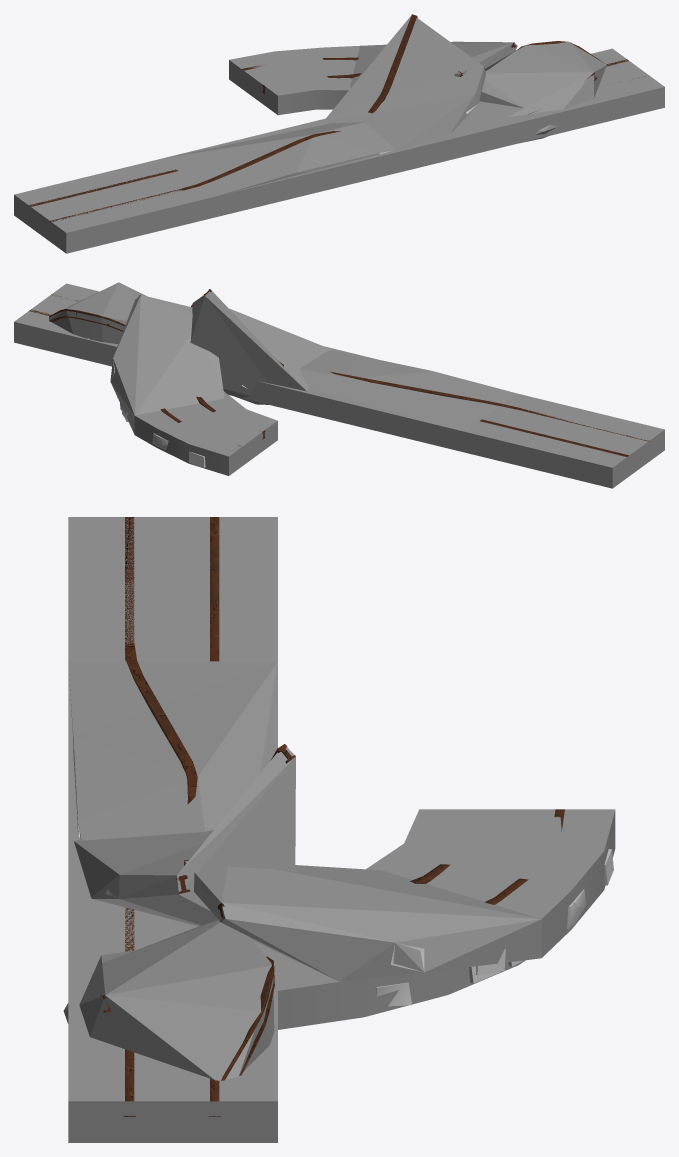
File: Rails_01.fbx
The picture shows the model from 3 angles, top to bottom: view 1: azimuth 30°, elevation 25°; view 2: azimuth 150°, elevation 25°; view 3: azimuth 270°, elevation 25°; orthographic projection. The views are drawn at different scales.
Visible parts, largest first — view 1: Rail_Straight_10m_A1_COL, Rail_Straight_10m_A2_COL, Rail_Straight_5m_A2_COL, Rail_90Deg_A1_COL, Rail_90Deg_A2_COL, Rail_Straight_10m_A2, Rail_Straight_5m_A2, Rail_Straight_10m_A1, Rail_Straight_5m_A1_COL; view 2: Rail_Straight_10m_A1_COL, Rail_Straight_10m_A2_COL, Rail_90Deg_A2_COL, Rail_Straight_5m_A2_COL, Rail_90Deg_A1_COL, Rail_Straight_10m_A2, Rail_Straight_10m_A1; view 3: Rail_Straight_10m_A2_COL, Rail_Straight_10m_A1_COL, Rail_90Deg_A2_COL, Rail_90Deg_A1_COL, Rail_Straight_5m_A2_COL, Rail_Straight_5m_A1_COL, Rail_Straight_10m_A1, Rail_Straight_10m_A2, Rail_90Deg_A1, Rail_90Deg_A2.
Part boxes in pixels (x1,y1,x2,y2): Rail_Straight_10m_A1_COL: (14,48,664,253); Rail_Straight_10m_A2_COL: (14,42,606,253); Rail_Straight_5m_A2_COL: (324,15,485,150); Rail_90Deg_A1_COL: (229,47,478,115); Rail_90Deg_A2_COL: (239,41,517,114); Rail_Straight_10m_A2: (31,41,604,220); Rail_Straight_5m_A2: (368,14,484,114); Rail_Straight_10m_A1: (29,59,639,221); Rail_Straight_5m_A1_COL: (376,107,512,155); Rail_Straight_10m_A1_COL: (14,283,664,488); Rail_Straight_10m_A2_COL: (49,282,661,488); Rail_90Deg_A2_COL: (110,295,277,473); Rail_Straight_5m_A2_COL: (190,290,396,412); Rail_90Deg_A1_COL: (120,391,277,475); Rail_Straight_10m_A2: (49,309,647,456); Rail_Straight_10m_A1: (29,294,649,456); Rail_Straight_10m_A2_COL: (63,517,277,1080); Rail_Straight_10m_A1_COL: (68,517,277,1142); Rail_90Deg_A2_COL: (184,809,615,981); Rail_90Deg_A1_COL: (172,809,615,1029); Rail_Straight_5m_A2_COL: (73,715,295,926); Rail_Straight_5m_A1_COL: (73,713,269,955); Rail_Straight_10m_A1: (123,517,220,1116); Rail_Straight_10m_A2: (77,517,274,1080); Rail_90Deg_A1: (375,809,613,1006); Rail_90Deg_A2: (184,860,528,981).
Size of the model in its own units: 10 by 1.73 by 3.99.
